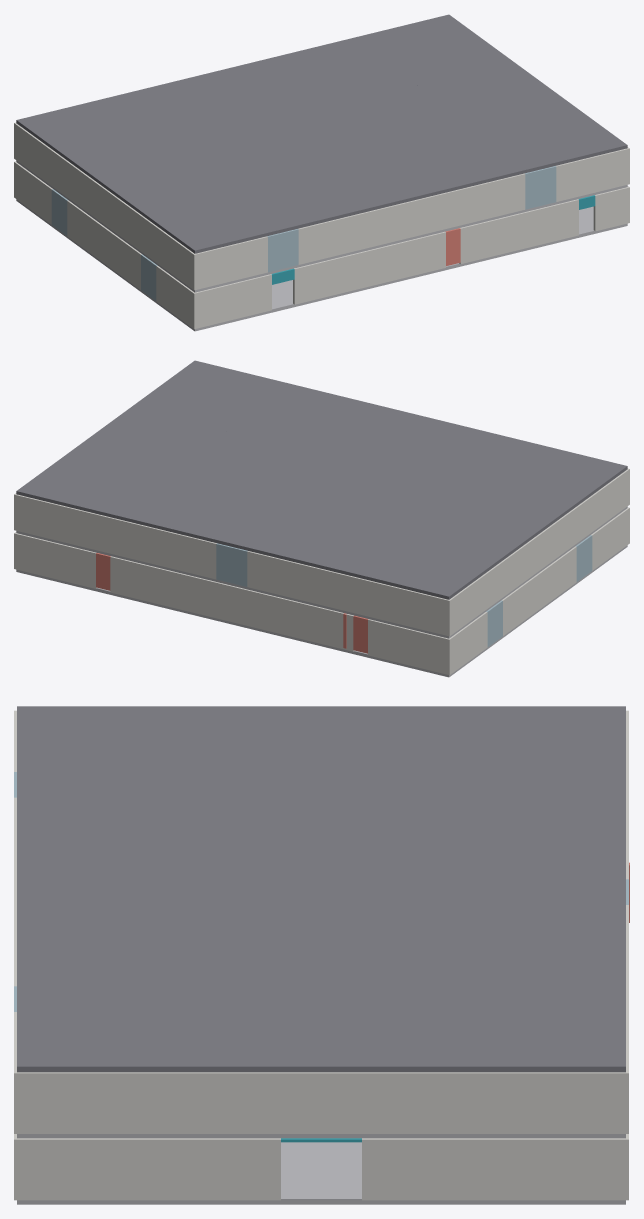
Rendered from construction_site_a01.glb.
The picture shows the model from 3 angles, top to bottom: view 1: azimuth 30°, elevation 25°; view 2: azimuth 150°, elevation 25°; view 3: azimuth 270°, elevation 25°; orthographic projection. The views are drawn at different scales.
Parts seen in each view (by area): view 1: slab_2_t0_0, slab_2_t0_4, slab_2_t0_6, slab_2_t0_8, slab_2_t0_3, slab_2_t0_5, slab_2_t0_7, slab_2_t0_1, slab_2_t0_2, slab_2_t5_0, slab_2_t2_0, slab_2_t1_0 (+107 smaller); view 2: slab_2_t5_0, slab_2_t5_4, slab_2_t5_6, slab_2_t5_8, slab_2_t5_3, slab_2_t5_5, slab_2_t5_7, slab_2_t5_1, slab_2_t5_2, slab_2_t0_0, slab_2_t3_0, slab_2_t1_0 (+109 smaller); view 3: slab_2_t0_8, slab_2_t3_8, slab_2_t5_8, slab_2_t1_8, slab_2_t2_8, slab_2_t4_8, slab_2_t0_0, slab_2_t0_1, slab_2_t0_2, slab_2_t0_3, slab_2_t0_4, slab_2_t0_5 (+75 smaller).
Boxes of the visible parts, x1,y1,x2,y2 form: slab_2_t0_0: [165, 217, 242, 253]; slab_2_t0_4: [358, 170, 435, 206]; slab_2_t0_6: [454, 147, 531, 183]; slab_2_t0_8: [550, 123, 627, 159]; slab_2_t0_3: [310, 182, 387, 218]; slab_2_t0_5: [406, 158, 483, 194]; slab_2_t0_7: [502, 135, 579, 171]; slab_2_t0_1: [213, 205, 290, 241]; slab_2_t0_2: [261, 193, 338, 230]; slab_2_t5_0: [16, 108, 93, 144]; slab_2_t2_0: [105, 173, 182, 209]; slab_2_t1_0: [135, 195, 212, 231]; slab_2_t5_0: [401, 563, 478, 599]; slab_2_t5_4: [208, 516, 285, 552]; slab_2_t5_6: [112, 493, 189, 529]; slab_2_t5_8: [16, 469, 93, 505]; slab_2_t5_3: [256, 528, 333, 564]; slab_2_t5_5: [160, 504, 237, 540]; slab_2_t5_7: [64, 481, 141, 517]; slab_2_t5_1: [353, 551, 430, 587]; slab_2_t5_2: [305, 539, 382, 576]; slab_2_t0_0: [550, 454, 627, 490]; slab_2_t3_0: [461, 519, 538, 555]; slab_2_t1_0: [520, 476, 597, 512]; slab_2_t0_8: [17, 1026, 118, 1072]; slab_2_t3_8: [321, 1026, 422, 1072]; slab_2_t5_8: [524, 1026, 625, 1072]; slab_2_t1_8: [118, 1026, 219, 1072]; slab_2_t2_8: [220, 1026, 321, 1072]; slab_2_t4_8: [423, 1026, 524, 1072]; slab_2_t0_0: [17, 706, 118, 746]; slab_2_t0_1: [17, 746, 118, 786]; slab_2_t0_2: [17, 786, 118, 826]; slab_2_t0_3: [17, 826, 118, 866]; slab_2_t0_4: [17, 866, 118, 906]; slab_2_t0_5: [17, 906, 118, 946].
Size of what is drawn, in the model's own units: 42.3 by 7.5 by 30.35.
